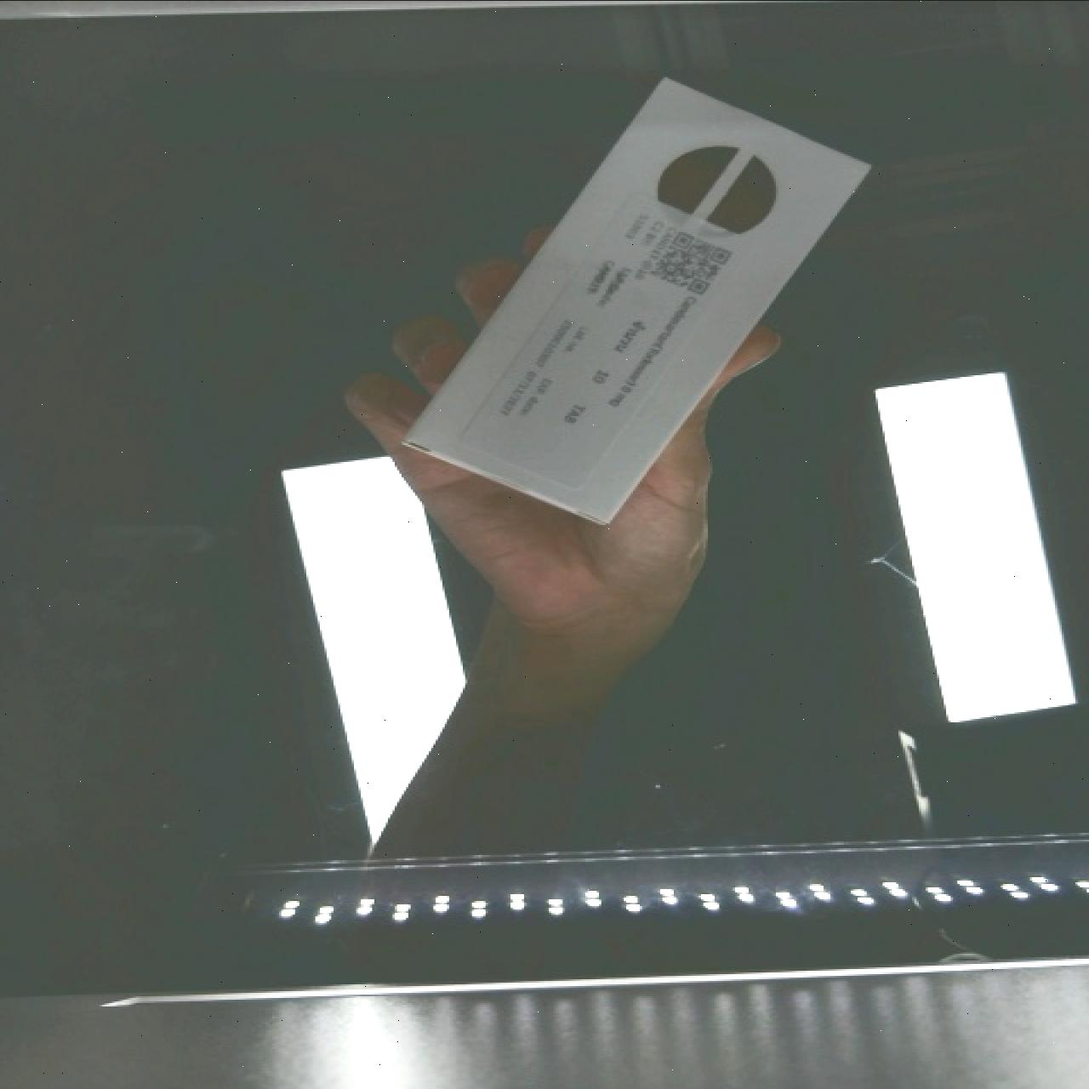qr_code: (638, 212, 758, 316)
